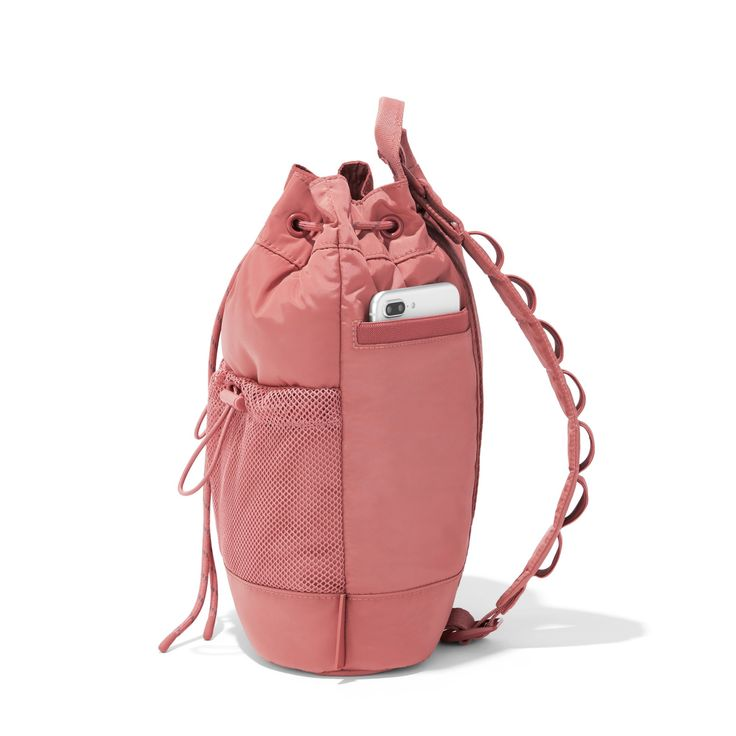nylon: (205, 96, 596, 676)
